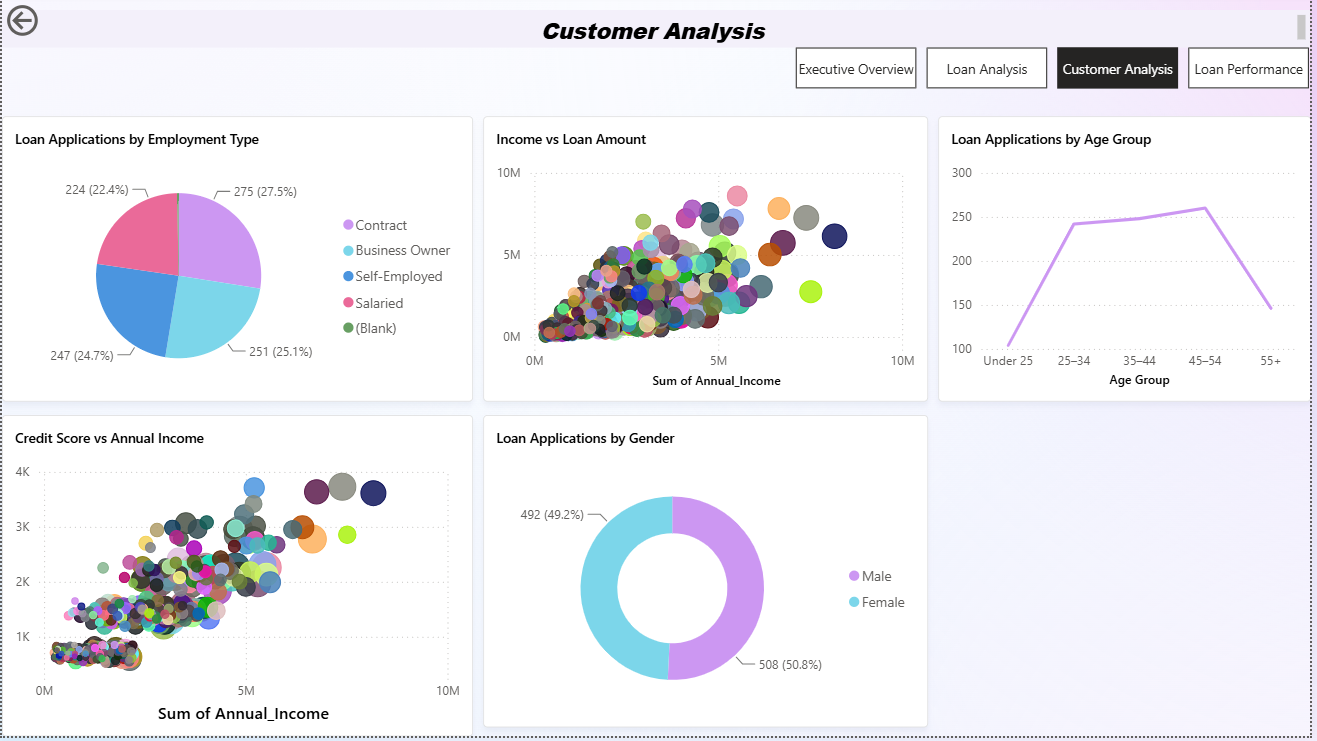

What the dashboard file says about the page in this screenshot:
{"tool":"powerbi","page":{"name":"Customer Analysis","canvas":[1280,720],"ordinal":2},"visuals":[{"type":"pieChart","title":"Loan Applications by Employment Type","fields":{"Category":["Dim_Customer.Employment_Type"],"Y":["Fact_Loans.Total Applications"]},"box":[0,113.7,461,278.8],"z":0},{"type":"scatterChart","title":"Credit Score vs Annual Income","fields":{"X":["Sum(Fact_Loans.Annual_Income)"],"Y":["Sum(Fact_Loans.Credit_Score)"],"Size":["Sum(Fact_Loans.Loan_Amount)"],"Series":["Fact_Loans.Customer_ID"]},"box":[0,406,461,314.3],"z":1000},{"type":"lineClusteredColumnComboChart","title":"Loan Applications by Age Group","fields":{"Category":["Fact_Loans.Age Group"],"Y2":["Fact_Loans.Total Applications"]},"box":[915.9,113.7,364.4,278.8],"z":2000},{"type":"scatterChart","title":"Income vs Loan Amount","fields":{"X":["Sum(Fact_Loans.Annual_Income)"],"Y":["Sum(Fact_Loans.Loan_Amount)"],"Size":["Sum(Fact_Loans.Credit_Score)"],"Series":["Fact_Loans.Customer_ID"]},"box":[470.8,113.7,435,279],"z":3000},{"type":"donutChart","title":"Loan Applications by Gender","fields":{"Category":["Dim_Customer.Gender"],"Y":["Fact_Loans.Total Applications"]},"box":[470.8,406,435.3,305.7],"z":4000},{"type":"textbox","box":[0,9.8,1280.3,36.7],"z":5000},{"type":"pageNavigator","box":[776.5,46.5,503.8,40.4],"z":5001},{"type":"actionButton","box":[0,0,100,40],"z":5003}]}

Visuals, with their boxes in screenshot pixels (x1, y1, x2, y2), scaled from the page's 1280x720 canvas onto the 1317x741 screenshot:
"Loan Applications by Employment Type" pieChart: box=[0, 117, 474, 404]
"Credit Score vs Annual Income" scatterChart: box=[0, 418, 474, 740]
"Loan Applications by Age Group" lineClusteredColumnComboChart: box=[942, 117, 1316, 404]
"Income vs Loan Amount" scatterChart: box=[484, 117, 932, 404]
"Loan Applications by Gender" donutChart: box=[484, 418, 932, 732]
textbox: box=[0, 10, 1316, 48]
pageNavigator: box=[799, 48, 1316, 89]
actionButton: box=[0, 0, 103, 41]
